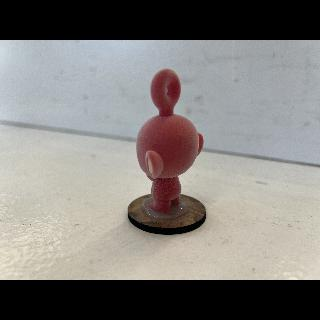teletubby: (137, 69, 203, 213)
